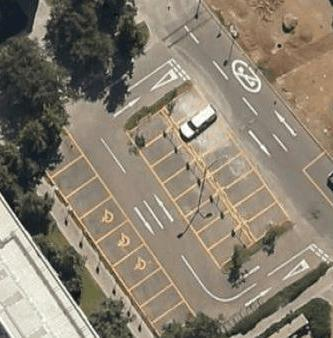parkingspot: (33, 130, 200, 337), (159, 83, 293, 245), (124, 109, 255, 272), (301, 150, 333, 208)
